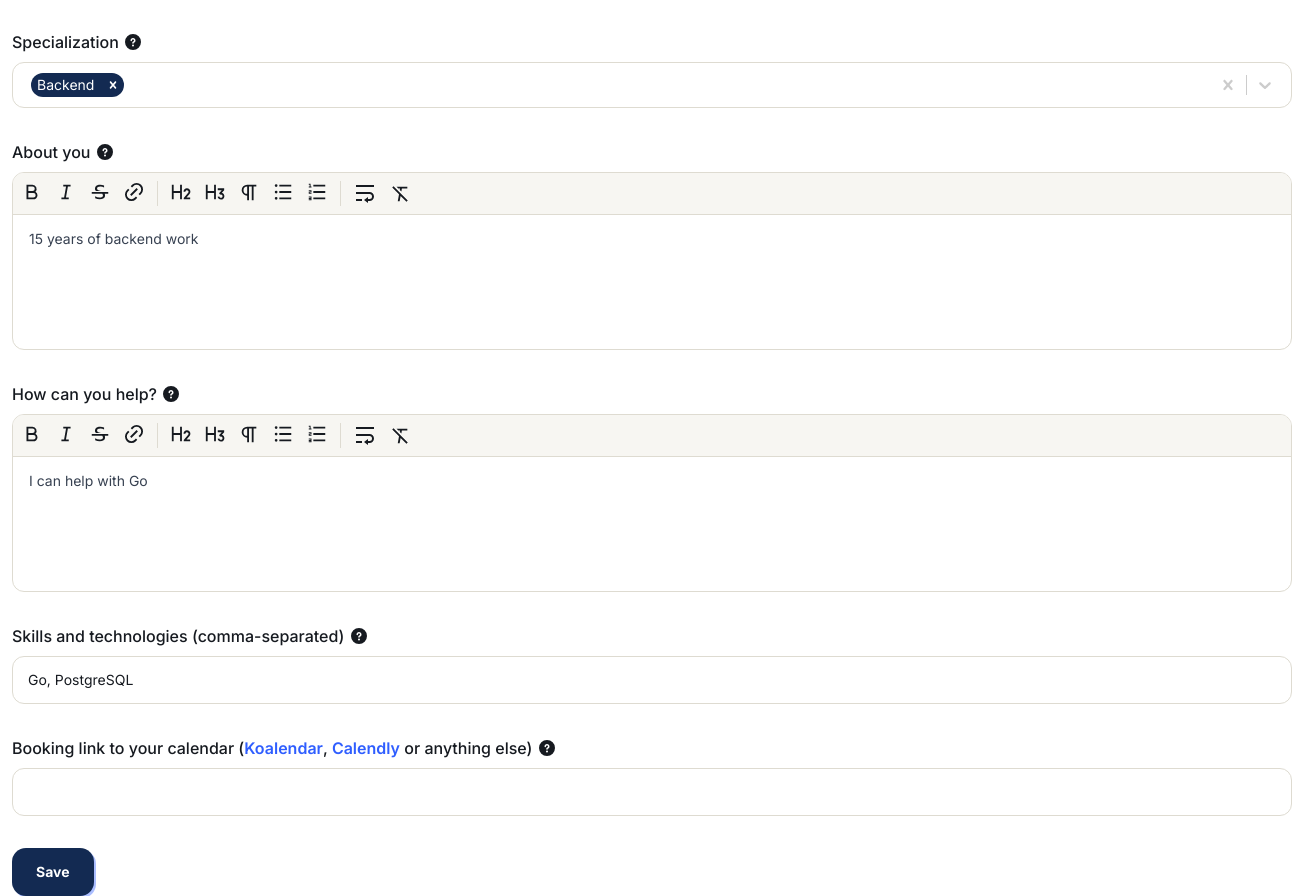
Scenario: ProfileForm › leaves a stored price outside the grammar unselected and blocks the save
(page scrolled)
Click the button "Save". click: coordinates (53, 872)
box: [12, 848, 94, 895]
(page scrolled)
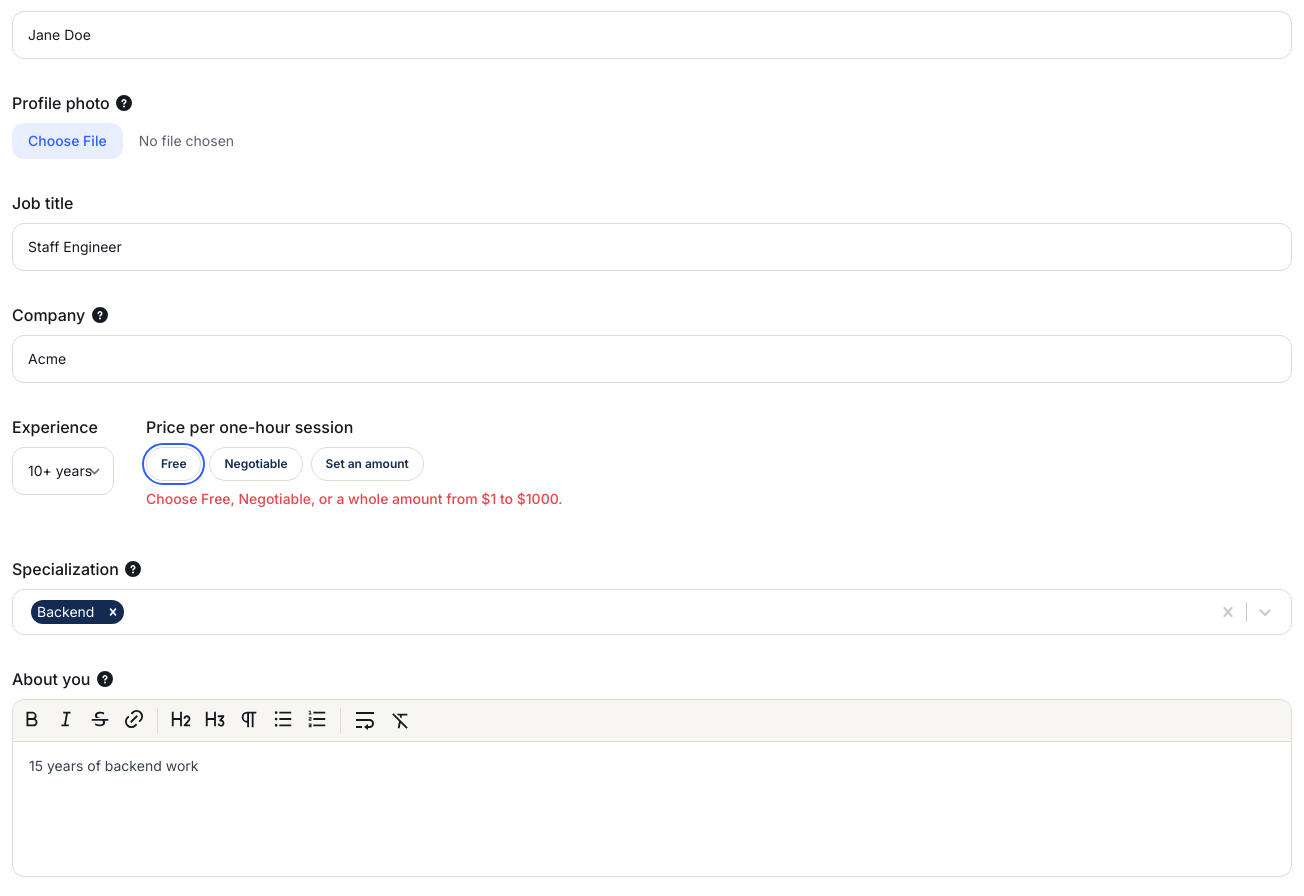
Expected: the message shows "whole amount from $1 to $1000", [146, 490, 563, 507]
